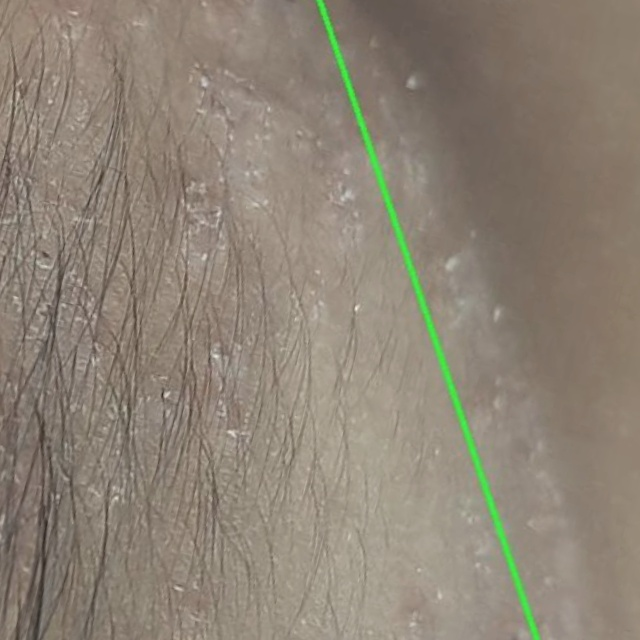Tinea Corporis: (294, 0, 639, 639)
